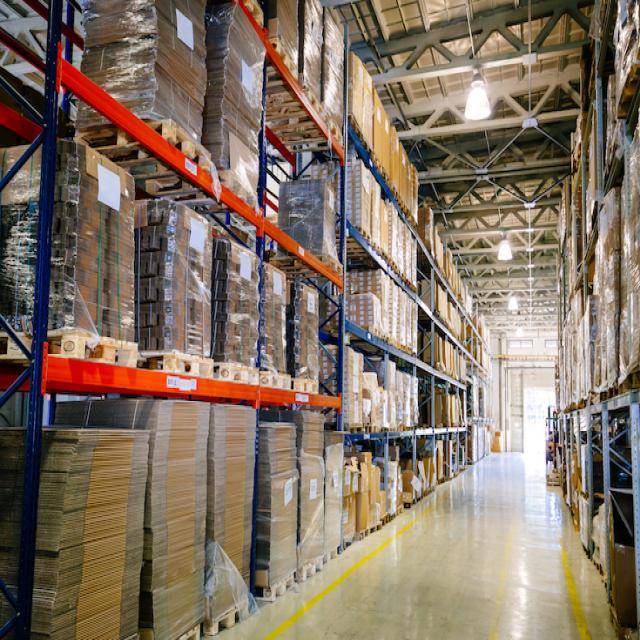Palette: (76, 120, 218, 207), (0, 326, 138, 378), (262, 91, 348, 157), (135, 342, 216, 383), (188, 598, 248, 638), (266, 33, 301, 98), (297, 549, 340, 581), (596, 371, 640, 398), (255, 578, 305, 596), (351, 521, 391, 543), (257, 370, 293, 394), (291, 378, 319, 399)
